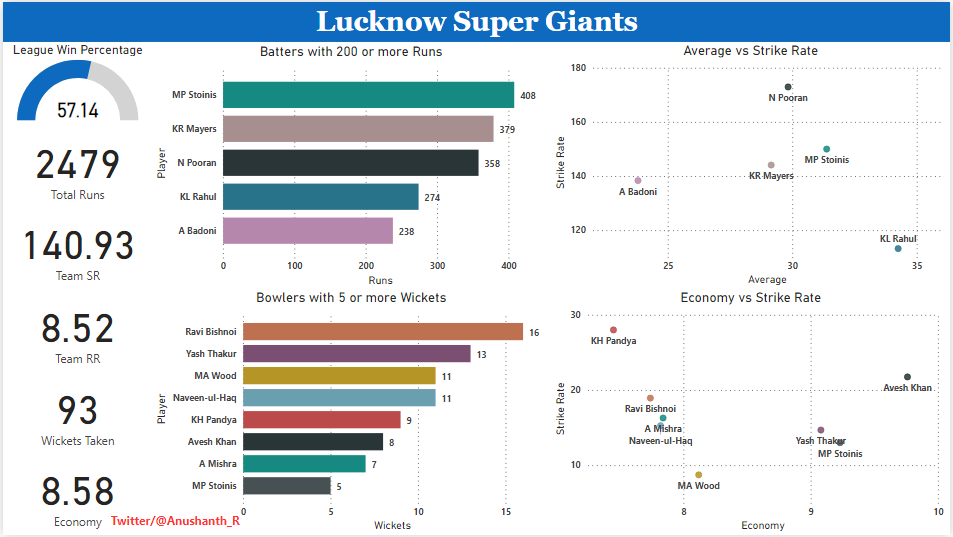

Layout of this report page (visuals, bound fields, positions):
{"tool":"powerbi","page":{"name":"LSG","canvas":[1280,720],"ordinal":4},"visuals":[{"type":"textbox","box":[0,0,1280.5,54.1],"z":0},{"type":"scatterChart","title":"Average vs Strike Rate","fields":{"Category":["all_batters.Player"],"Y":["Sum(all_batters.SR)"],"X":["Sum(all_batters.Average)"],"Series":["all_batters.Player"]},"box":[740.5,54.1,540,333.7],"z":1000},{"type":"card","fields":{"Values":["Sum(teamwise_batting.Runs)"]},"box":[0,165.6,201.6,110.9],"z":2000},{"type":"card","fields":{"Values":["Sum(teamwise_batting.SR)"]},"box":[0,276.2,201.6,111.3],"z":3000},{"type":"card","fields":{"Values":["Sum(teamwise_batting.RR)"]},"box":[0,387.4,201.6,110.9],"z":4000},{"type":"card","fields":{"Values":["Sum(teamwise_bowling.Wickets)"]},"box":[0,498.2,201.6,111],"z":5000},{"type":"card","fields":{"Values":["Sum(teamwise_bowling.Economy)"]},"box":[0,607.7,201.6,111],"z":6000},{"type":"barChart","title":"Bowlers with 5 or more Wickets","fields":{"Category":["all_bowlers.Player"],"Y":["Sum(all_bowlers.Wickets)"],"Series":["all_bowlers.Player"]},"box":[202,387.8,538.5,332.2],"z":7000},{"type":"scatterChart","title":"Economy vs Strike Rate","fields":{"Category":["all_bowlers.Player"],"X":["Sum(all_bowlers.Economy)"],"Y":["Sum(all_bowlers.SR)"],"Series":["all_bowlers.Player"]},"box":[740.5,387.8,540,332.2],"z":8000},{"type":"gauge","title":"League Win Percentage","fields":{"Y":["Sum(matches_won.Win Percantage)"]},"box":[0,54.1,202,111],"z":9000},{"type":"barChart","title":"Batters with 200 or more Runs","fields":{"Category":["all_batters.Player"],"Y":["Sum(all_batters.Runs)"],"Series":["all_batters.Player"]},"box":[201.6,55,538,332.5],"z":10000},{"type":"textbox","box":[140,685.4,194.4,31.7],"z":11000}]}

Visuals, with their boxes in screenshot pixels (x1, y1, x2, y2), scaled from the page's 1280x720 canvas onto the 953x537 screenshot:
textbox: 0,0,952,40
"Average vs Strike Rate" scatterChart: 551,40,952,289
card - Sum(teamwise_batting.Runs): 0,124,150,206
card - Sum(teamwise_batting.SR): 0,206,150,289
card - Sum(teamwise_batting.RR): 0,289,150,372
card - Sum(teamwise_bowling.Wickets): 0,372,150,454
card - Sum(teamwise_bowling.Economy): 0,453,150,536
"Bowlers with 5 or more Wickets" barChart: 150,289,551,536
"Economy vs Strike Rate" scatterChart: 551,289,952,536
"League Win Percentage" gauge: 0,40,150,123
"Batters with 200 or more Runs" barChart: 150,41,551,289
textbox: 104,511,249,535
